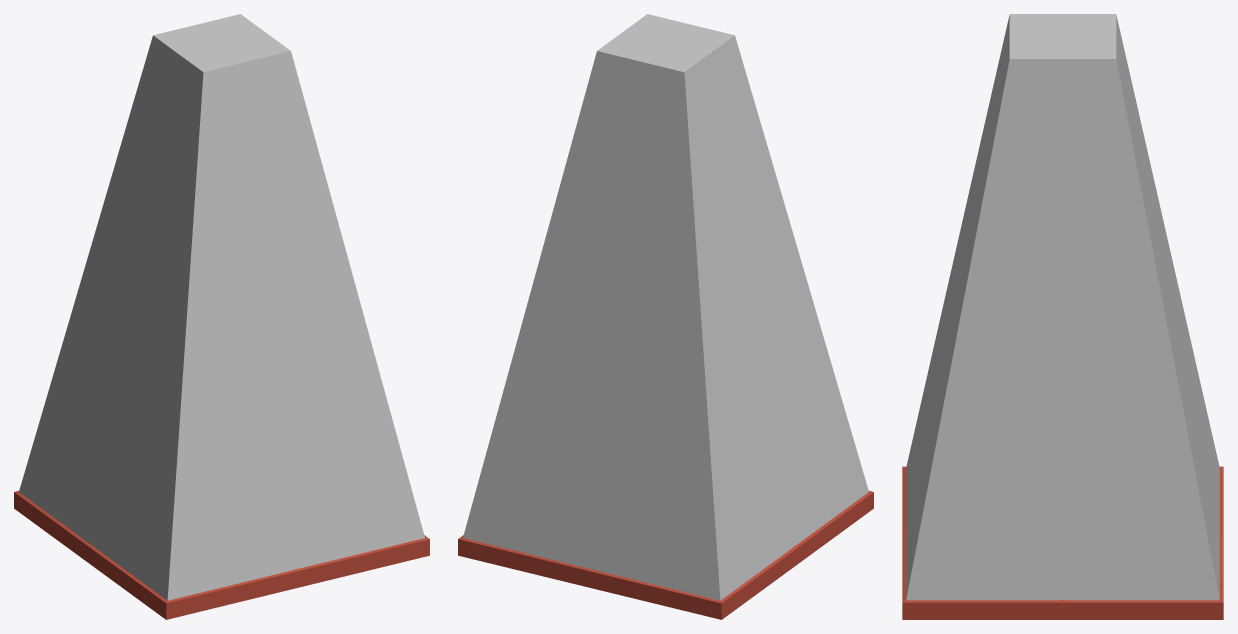
Rendered from SM_PavementBarriers_04.fbx.
3 renders of one model, left to right at view 1: azimuth 30°, elevation 25°; view 2: azimuth 150°, elevation 25°; view 3: azimuth 270°, elevation 25°, orthographic. The views are drawn at different scales.
Visible parts, largest first — view 1: SM_PavementBarriers_04_ConvexHulls, SM_PavementBarriers_04; view 2: SM_PavementBarriers_04_ConvexHulls, SM_PavementBarriers_04; view 3: SM_PavementBarriers_04_ConvexHulls, SM_PavementBarriers_04.
Part boxes in pixels (box(x1,y1,x2,y2)): SM_PavementBarriers_04_ConvexHulls: box(19, 14, 424, 600); SM_PavementBarriers_04: box(14, 491, 429, 619); SM_PavementBarriers_04_ConvexHulls: box(463, 14, 868, 600); SM_PavementBarriers_04: box(458, 491, 873, 619); SM_PavementBarriers_04_ConvexHulls: box(906, 14, 1219, 600); SM_PavementBarriers_04: box(902, 466, 1223, 619).
Size of the model in its own units: 42.55 by 42.55 by 75.39.
2 materials, 1 textured.
